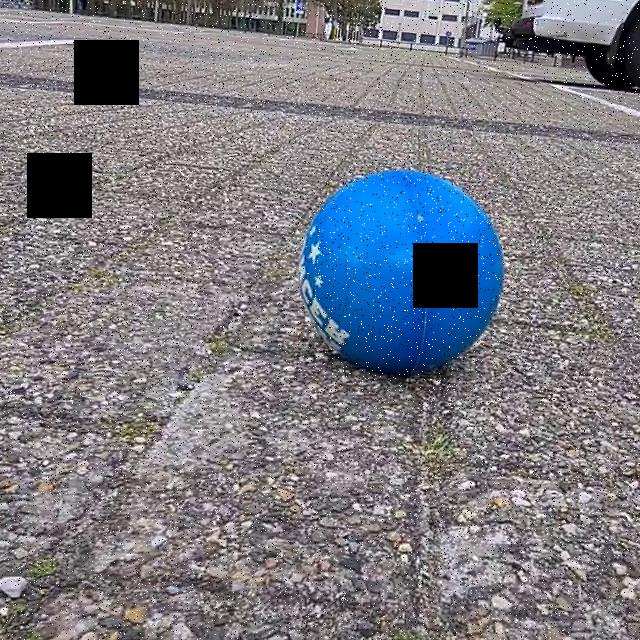ball: (349, 167, 508, 379)
